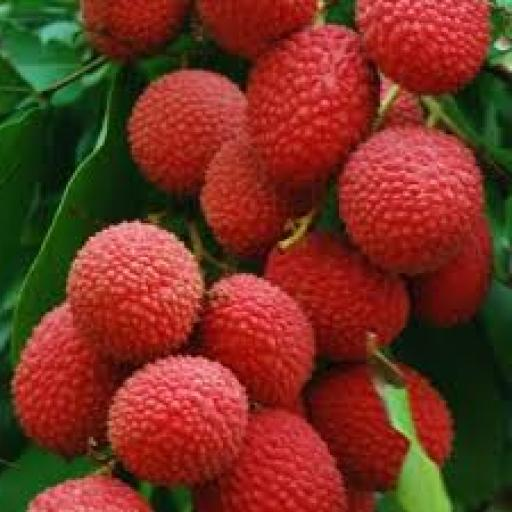lychee: (245, 26, 376, 186), (339, 128, 481, 275), (68, 221, 201, 364), (263, 233, 408, 359), (109, 358, 247, 486), (13, 303, 121, 457), (200, 274, 313, 405), (127, 71, 244, 193), (216, 410, 347, 511), (307, 367, 408, 491), (357, 0, 488, 93), (200, 137, 292, 257), (409, 219, 490, 327), (197, 0, 315, 59), (79, 0, 187, 59), (27, 476, 149, 511), (382, 89, 422, 127), (345, 487, 374, 511)
